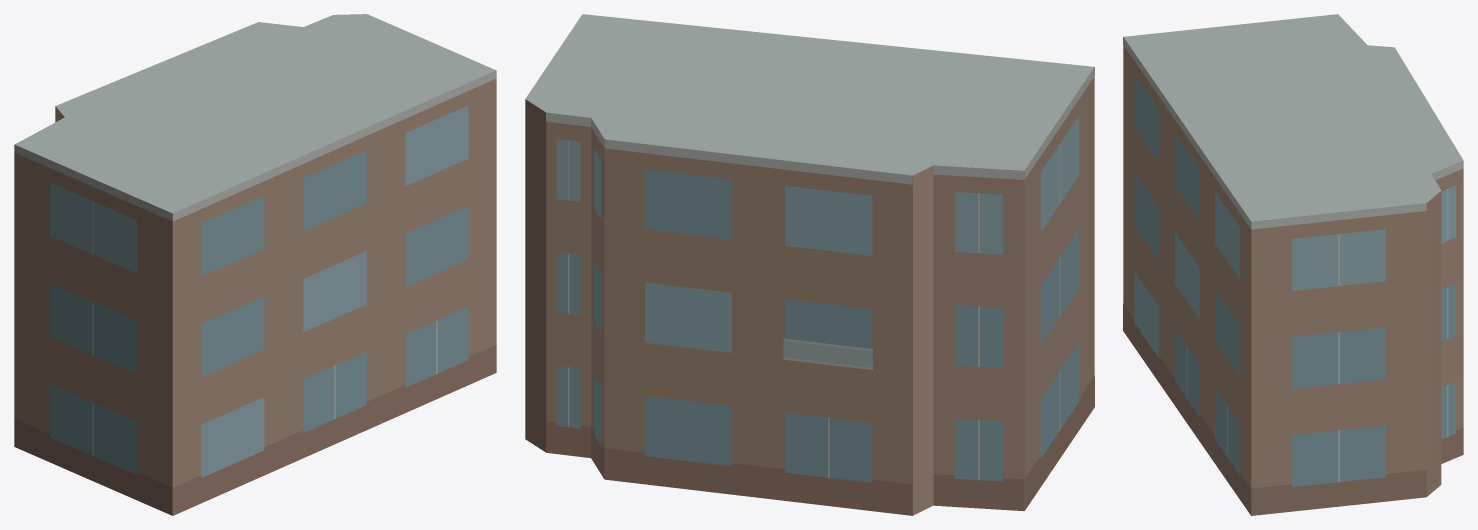
File: survey-upis-33011176.glb
3 renders of one model, left to right at view 1: azimuth 30°, elevation 25°; view 2: azimuth 150°, elevation 25°; view 3: azimuth 270°, elevation 25°, orthographic. The views are drawn at different scales.
Visible parts, largest first — view 1: survey-upis-33011176.tmp; view 2: survey-upis-33011176.tmp; view 3: survey-upis-33011176.tmp.
Part boxes in pixels (<box>): survey-upis-33011176.tmp: <box>14,14,496,515</box>; survey-upis-33011176.tmp: <box>525,14,1094,515</box>; survey-upis-33011176.tmp: <box>1123,14,1463,515</box>.
Bounding box in the file's own units: 13.87 × 9.15 × 9.61.
